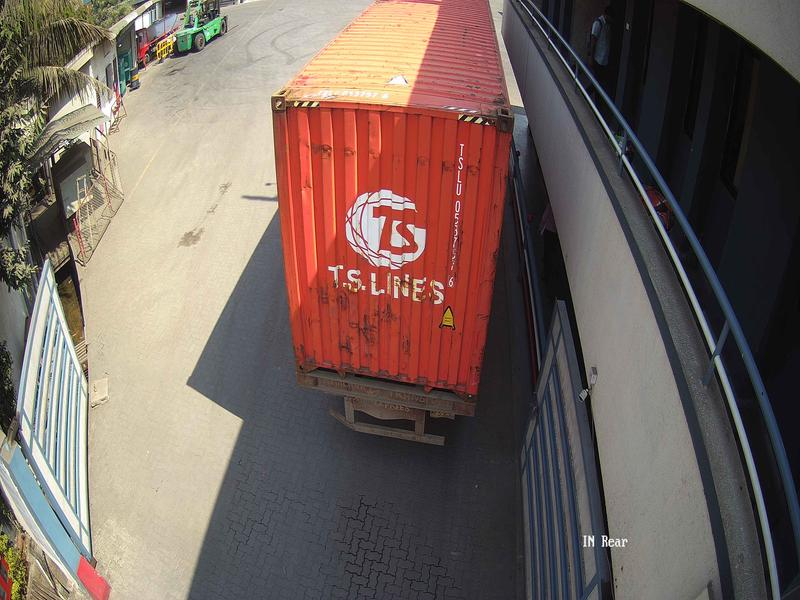container: (263, 80, 528, 408)
